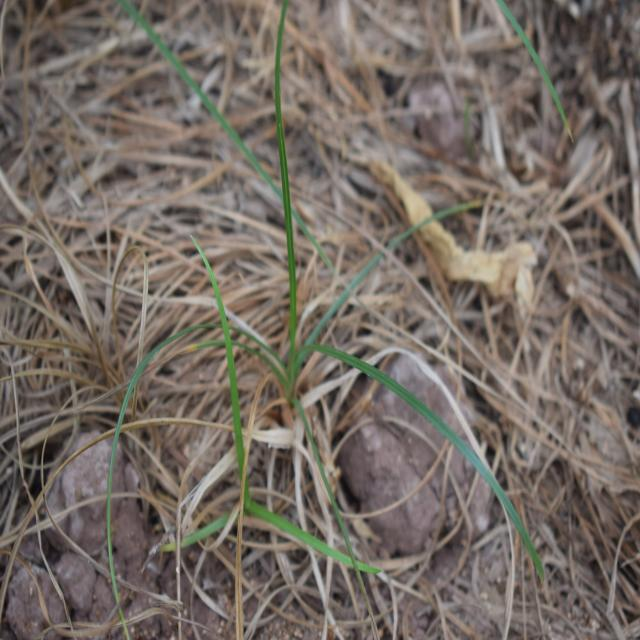sedge: (167, 46, 520, 576)
